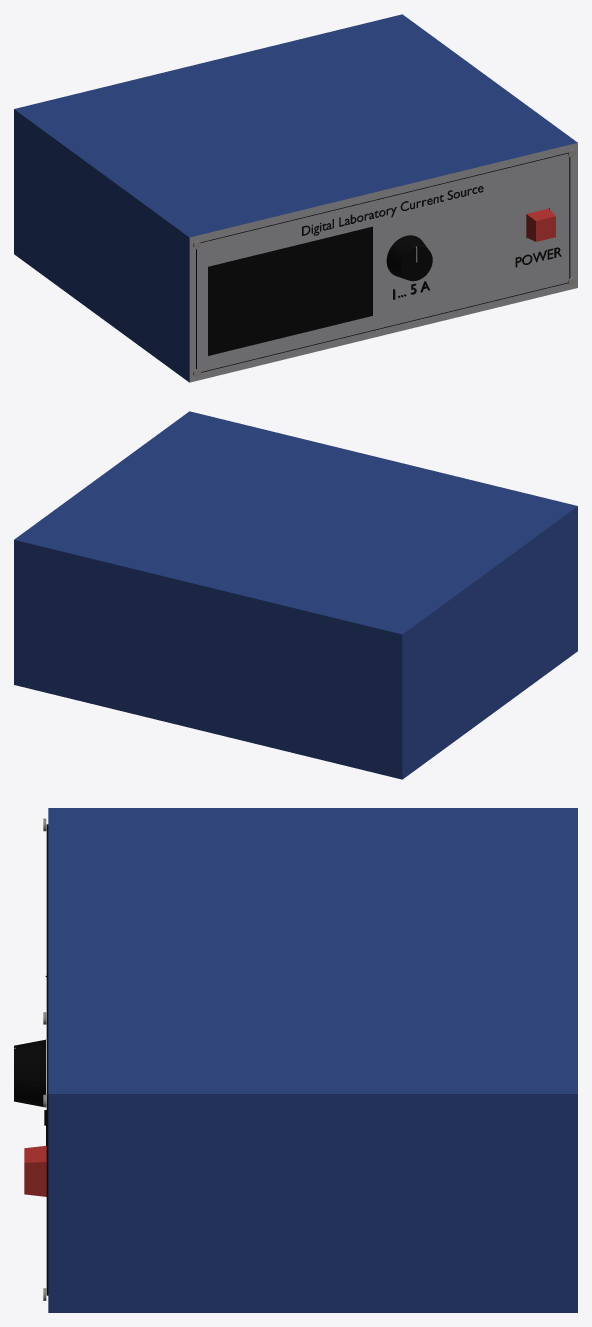
The model's file is currentSource.glb.
The picture shows the model from 3 angles, top to bottom: view 1: azimuth 30°, elevation 25°; view 2: azimuth 150°, elevation 25°; view 3: azimuth 270°, elevation 25°; orthographic projection. The views are drawn at different scales.
Parts seen in each view (by area): view 1: stand.001, contrast, power; view 2: stand.001; view 3: stand.001, contrast, power.
Part boxes in pixels (x1,y1,x2,y2): stand.001: (14,14,577,382); contrast: (386,235,432,281); power: (526,208,555,241); stand.001: (14,411,577,779); stand.001: (43,808,577,1312); contrast: (14,1039,45,1106); power: (24,1145,46,1196).
Bounding box in the file's own units: 191 × 68.22 × 159.
